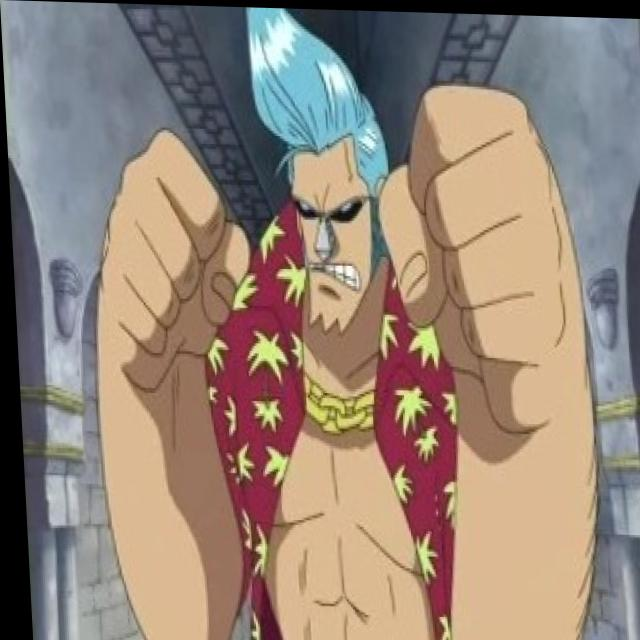Franky: (240, 6, 411, 359)
